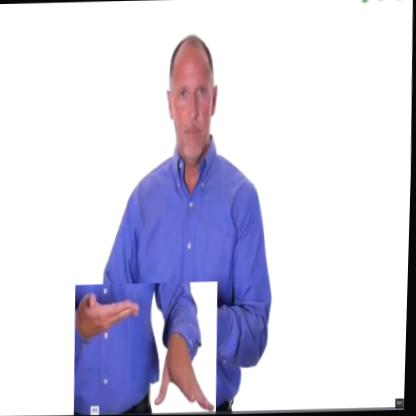Expensive: (73, 282, 220, 416)
